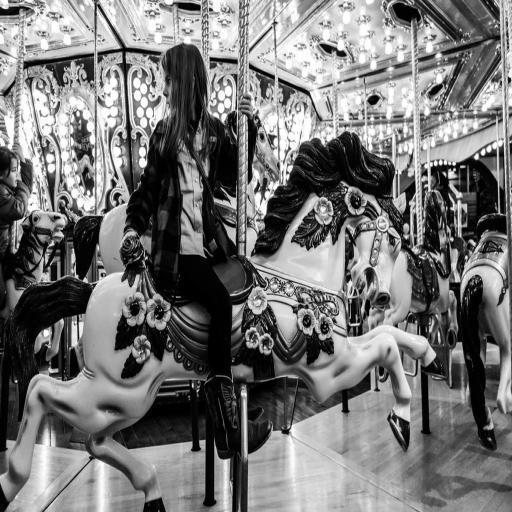horse: (0, 110, 512, 512)
